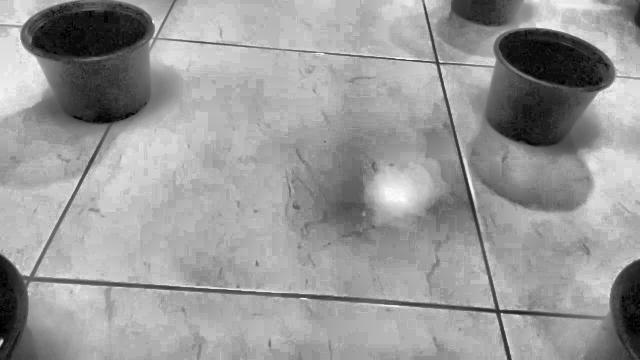pot: (20, 0, 154, 124), (485, 28, 614, 146)
